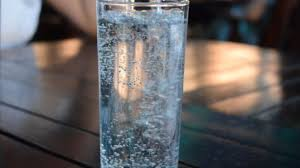air: (91, 7, 183, 168)
